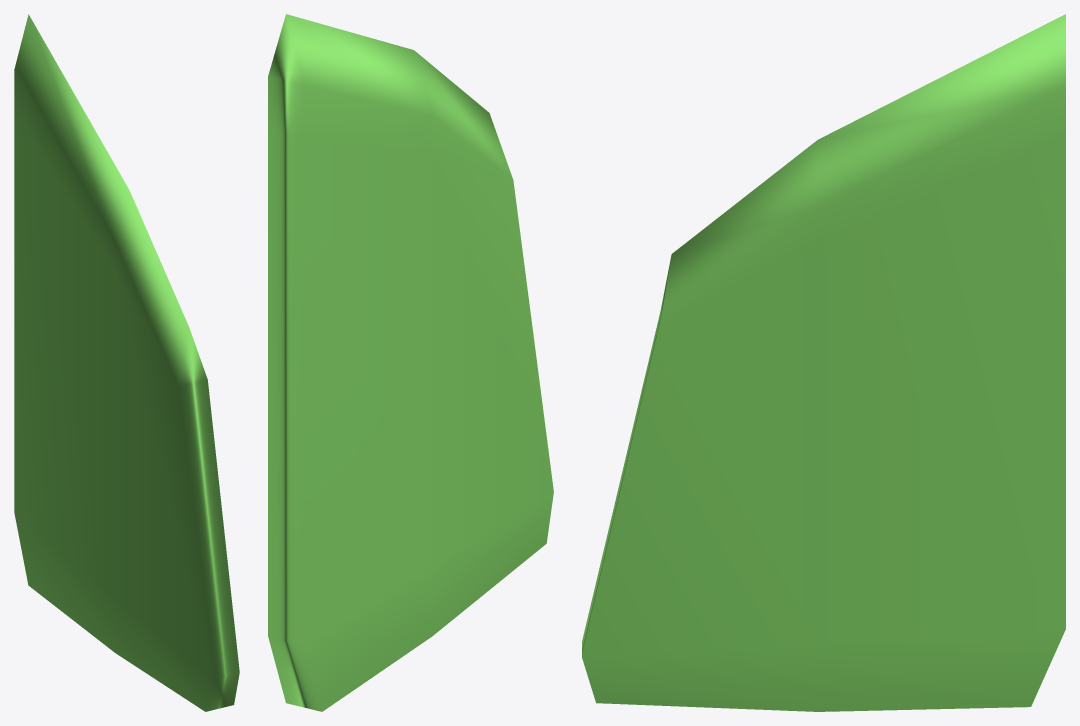
Rendered from pedaço de vidro.fbx.
The picture shows the model from 3 angles, left to right: view 1: azimuth 30°, elevation 25°; view 2: azimuth 150°, elevation 25°; view 3: azimuth 270°, elevation 25°; orthographic projection. The views are drawn at different scales.
Visible parts, largest first — view 1: Cube; view 2: Cube; view 3: Cube.
Boxes of the visible parts, <box> form: Cube: <box>14,14,239,711</box>; Cube: <box>268,14,553,711</box>; Cube: <box>582,14,1065,711</box>.
Bounding box in the file's own units: 3.48 × 65.36 × 41.56.
